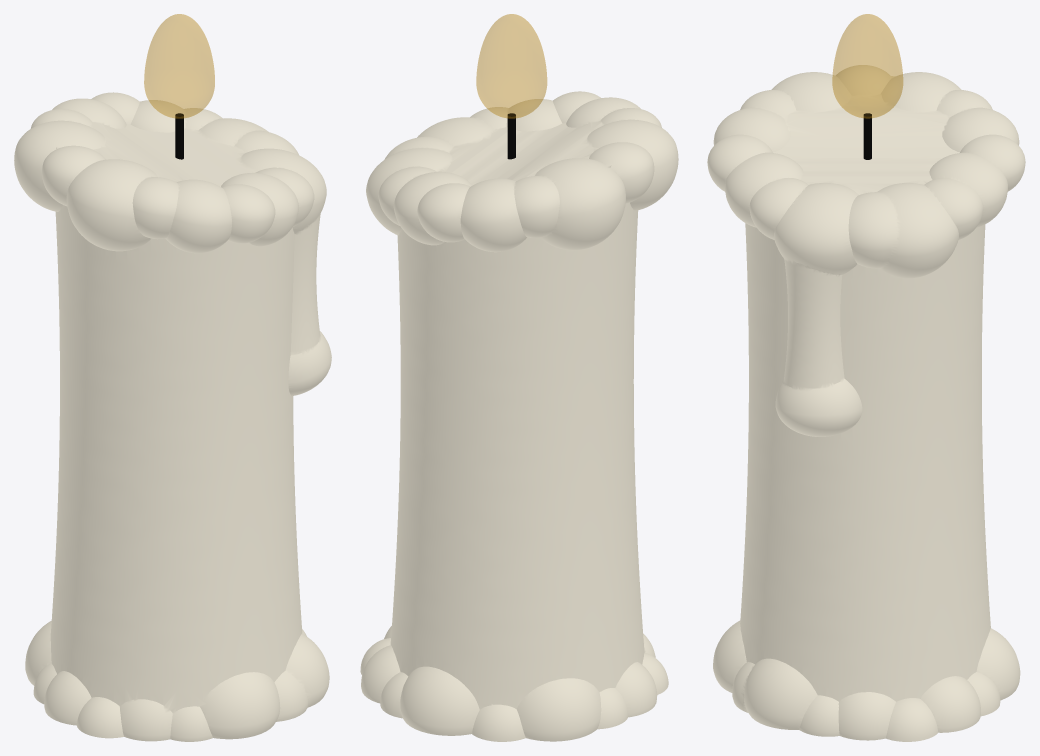
File: candle.glb
The picture shows the model from 3 angles, left to right: view 1: azimuth 30°, elevation 25°; view 2: azimuth 150°, elevation 25°; view 3: azimuth 270°, elevation 25°; orthographic projection.
Parts seen in each view (by area): view 1: Object_4; view 2: Object_4; view 3: Object_4.
Boxes of the visible parts, bbox=[...] form: Object_4: bbox=[14, 14, 331, 741]; Object_4: bbox=[360, 14, 678, 741]; Object_4: bbox=[707, 14, 1025, 741].
Bounding box in the file's own units: 0.1146 × 0.2774 × 0.1204.
